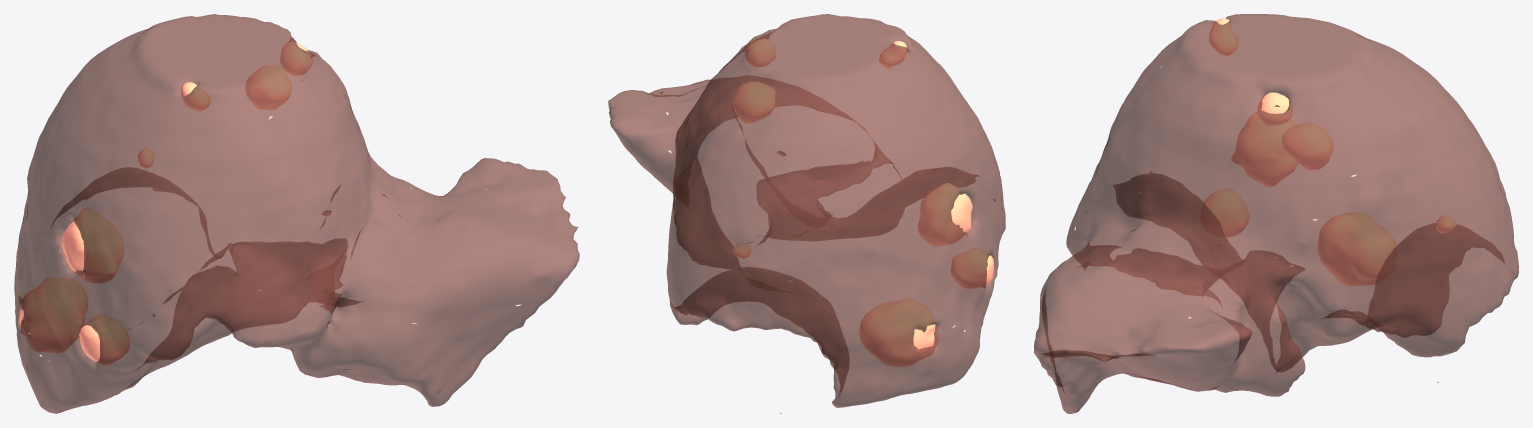
File: Metastasen.glb
3 renders of one model, left to right at view 1: azimuth 30°, elevation 25°; view 2: azimuth 150°, elevation 25°; view 3: azimuth 270°, elevation 25°, orthographic. The views are drawn at different scales.
Parts seen in each view (by area): view 1: metastases; view 2: metastases; view 3: metastases.
Boxes of the visible parts, x1=… form: metastases: x1=14, y1=14, x2=579, y2=413; metastases: x1=608, y1=14, x2=1005, y2=413; metastases: x1=1034, y1=14, x2=1518, y2=413.
Size of the model in its own units: 210 by 153 by 191.
